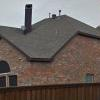Chimney: (16, 2, 42, 36)
